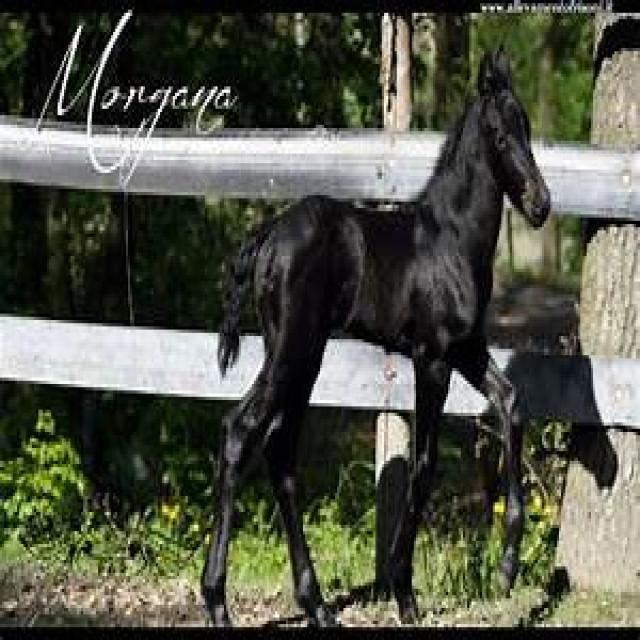horse: (201, 54, 550, 625)
